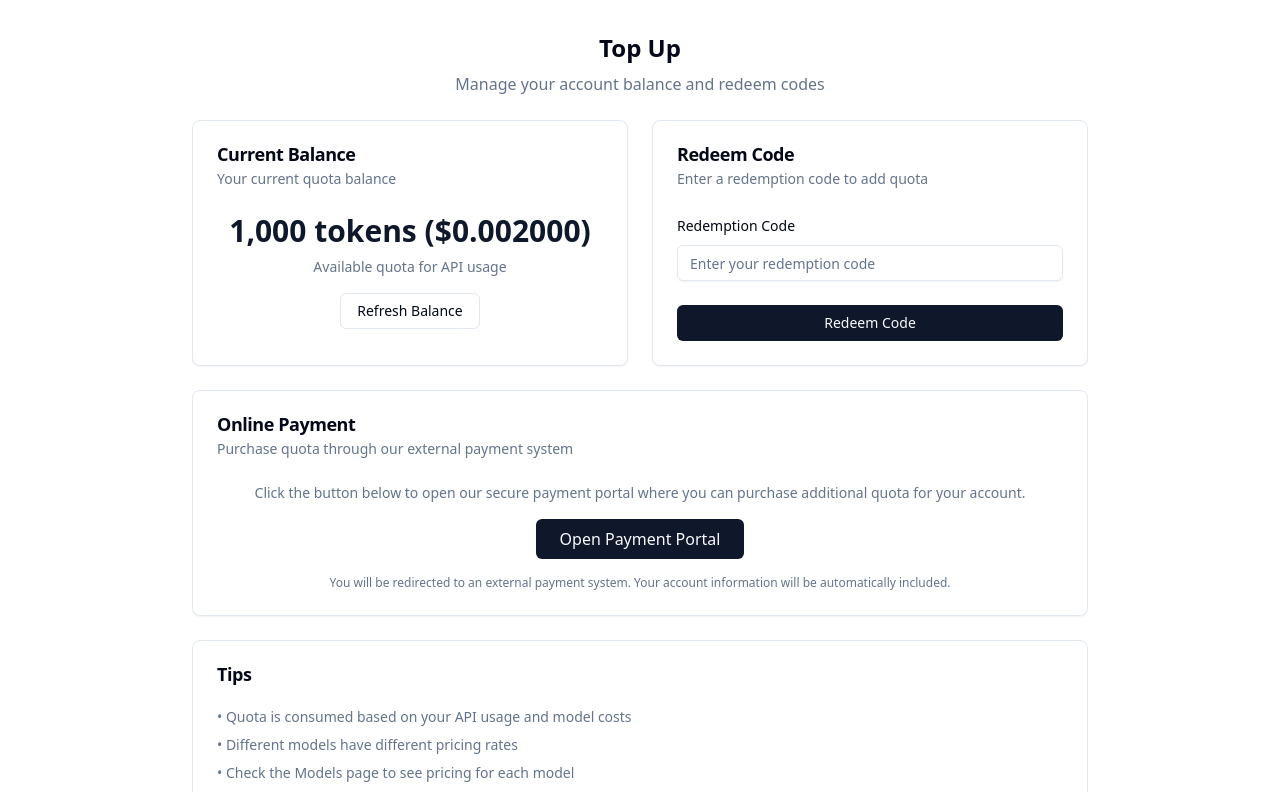
Scenario: TopUpPage › renders and redeems a code
// Type code and submit
Type "ABC-123" into the field with placeholder "Enter your redemption code" at (870, 263), box top-left (677, 245), bottom-right (1063, 281)
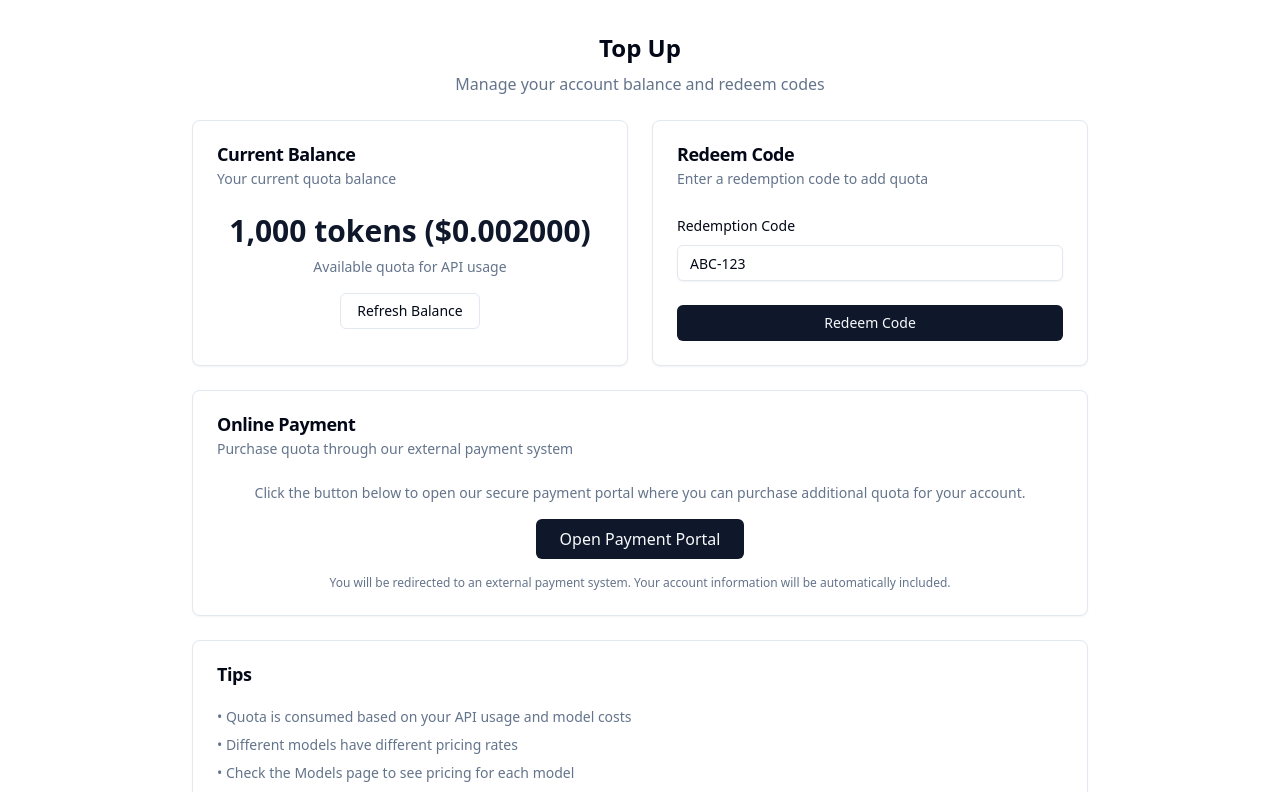
Click the button "Redeem Code" at (870, 323), box top-left (677, 305), bottom-right (1063, 341)
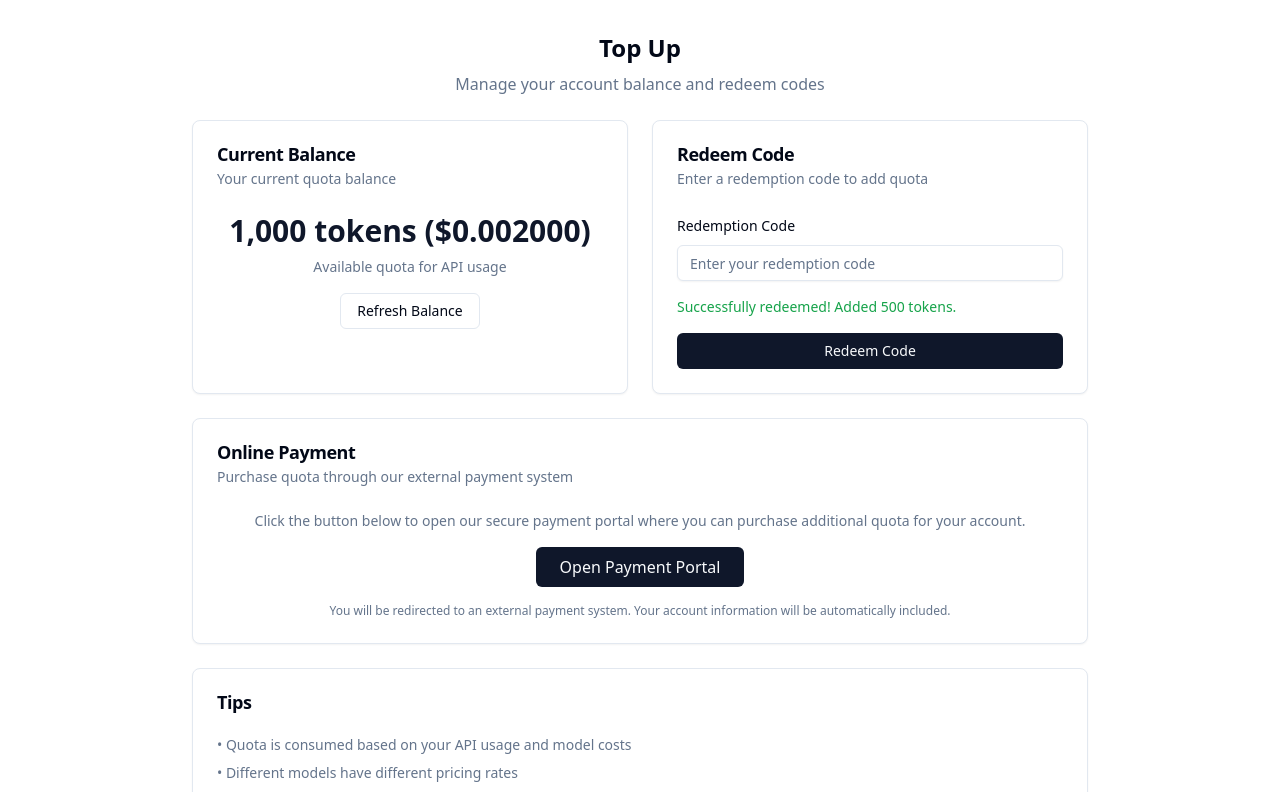
Expected: the text "Successfully redeemed! Added 500 tokens." is shown, top-left (677, 297), bottom-right (956, 316)
